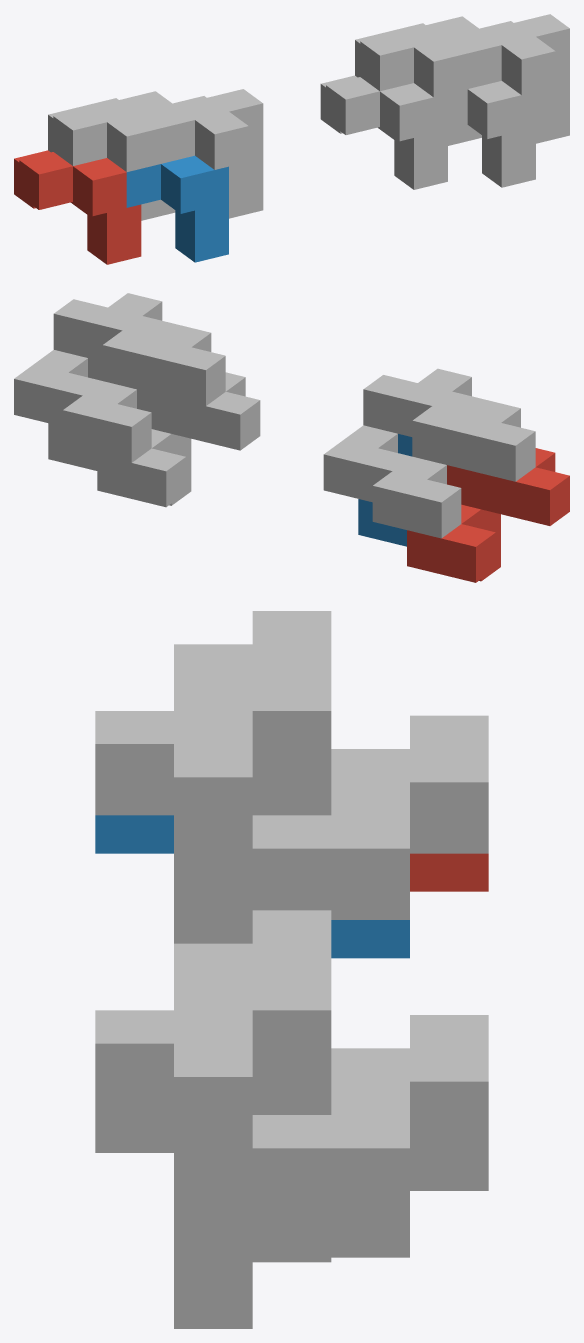
The model's file is tiling.obj.
3 renders of one model, top to bottom at view 1: azimuth 30°, elevation 25°; view 2: azimuth 150°, elevation 25°; view 3: azimuth 270°, elevation 25°, orthographic. The views are drawn at different scales.
Visible parts, largest first — view 1: copy_1_domain_4, copy_1_domain_8, copy_1_domain_1, copy_1_domain_5, copy_1_domain_3, copy_1_domain_7, copy_1_domain_6, copy_1_domain_2; view 2: copy_1_domain_3, copy_1_domain_7, copy_1_domain_5, copy_1_domain_1, copy_1_domain_4, copy_1_domain_8, copy_1_domain_6, copy_1_domain_2; view 3: copy_1_domain_8, copy_1_domain_4, copy_1_domain_3, copy_1_domain_7, copy_1_domain_6, copy_1_domain_2, copy_1_domain_5, copy_1_domain_1.
Part boxes in pixels (left/top/right/bottom): copy_1_domain_4: left=141, top=89, right=263, bottom=218; copy_1_domain_8: left=448, top=14, right=569, bottom=143; copy_1_domain_1: left=14, top=150, right=141, bottom=264; copy_1_domain_5: left=320, top=75, right=447, bottom=189; copy_1_domain_3: left=48, top=91, right=175, bottom=220; copy_1_domain_7: left=355, top=16, right=481, bottom=145; copy_1_domain_6: left=433, top=81, right=535, bottom=187; copy_1_domain_2: left=126, top=155, right=228, bottom=262; copy_1_domain_3: left=372, top=400, right=535, bottom=538; copy_1_domain_7: left=63, top=324, right=225, bottom=462; copy_1_domain_5: left=97, top=372, right=260, bottom=507; copy_1_domain_1: left=407, top=448, right=569, bottom=582; copy_1_domain_4: left=323, top=368, right=485, bottom=502; copy_1_domain_8: left=14, top=293, right=176, bottom=426; copy_1_domain_6: left=48, top=358, right=102, bottom=470; copy_1_domain_2: left=358, top=434, right=412, bottom=546; copy_1_domain_8: left=95, top=977, right=409, bottom=1290; copy_1_domain_4: left=95, top=677, right=409, bottom=943; copy_1_domain_3: left=174, top=611, right=488, bottom=853; copy_1_domain_7: left=174, top=910, right=488, bottom=1152; copy_1_domain_6: left=95, top=1115, right=409, bottom=1328; copy_1_domain_2: left=95, top=815, right=409, bottom=958; copy_1_domain_5: left=252, top=1153, right=488, bottom=1262; copy_1_domain_1: left=410, top=853, right=488, bottom=891.
Size of the model in its own units: 15 by 4 by 5.
